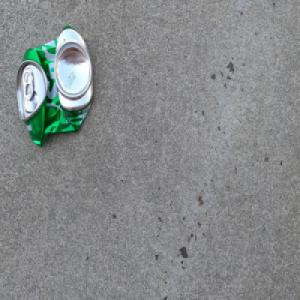SodaCan: (15, 24, 94, 149)
